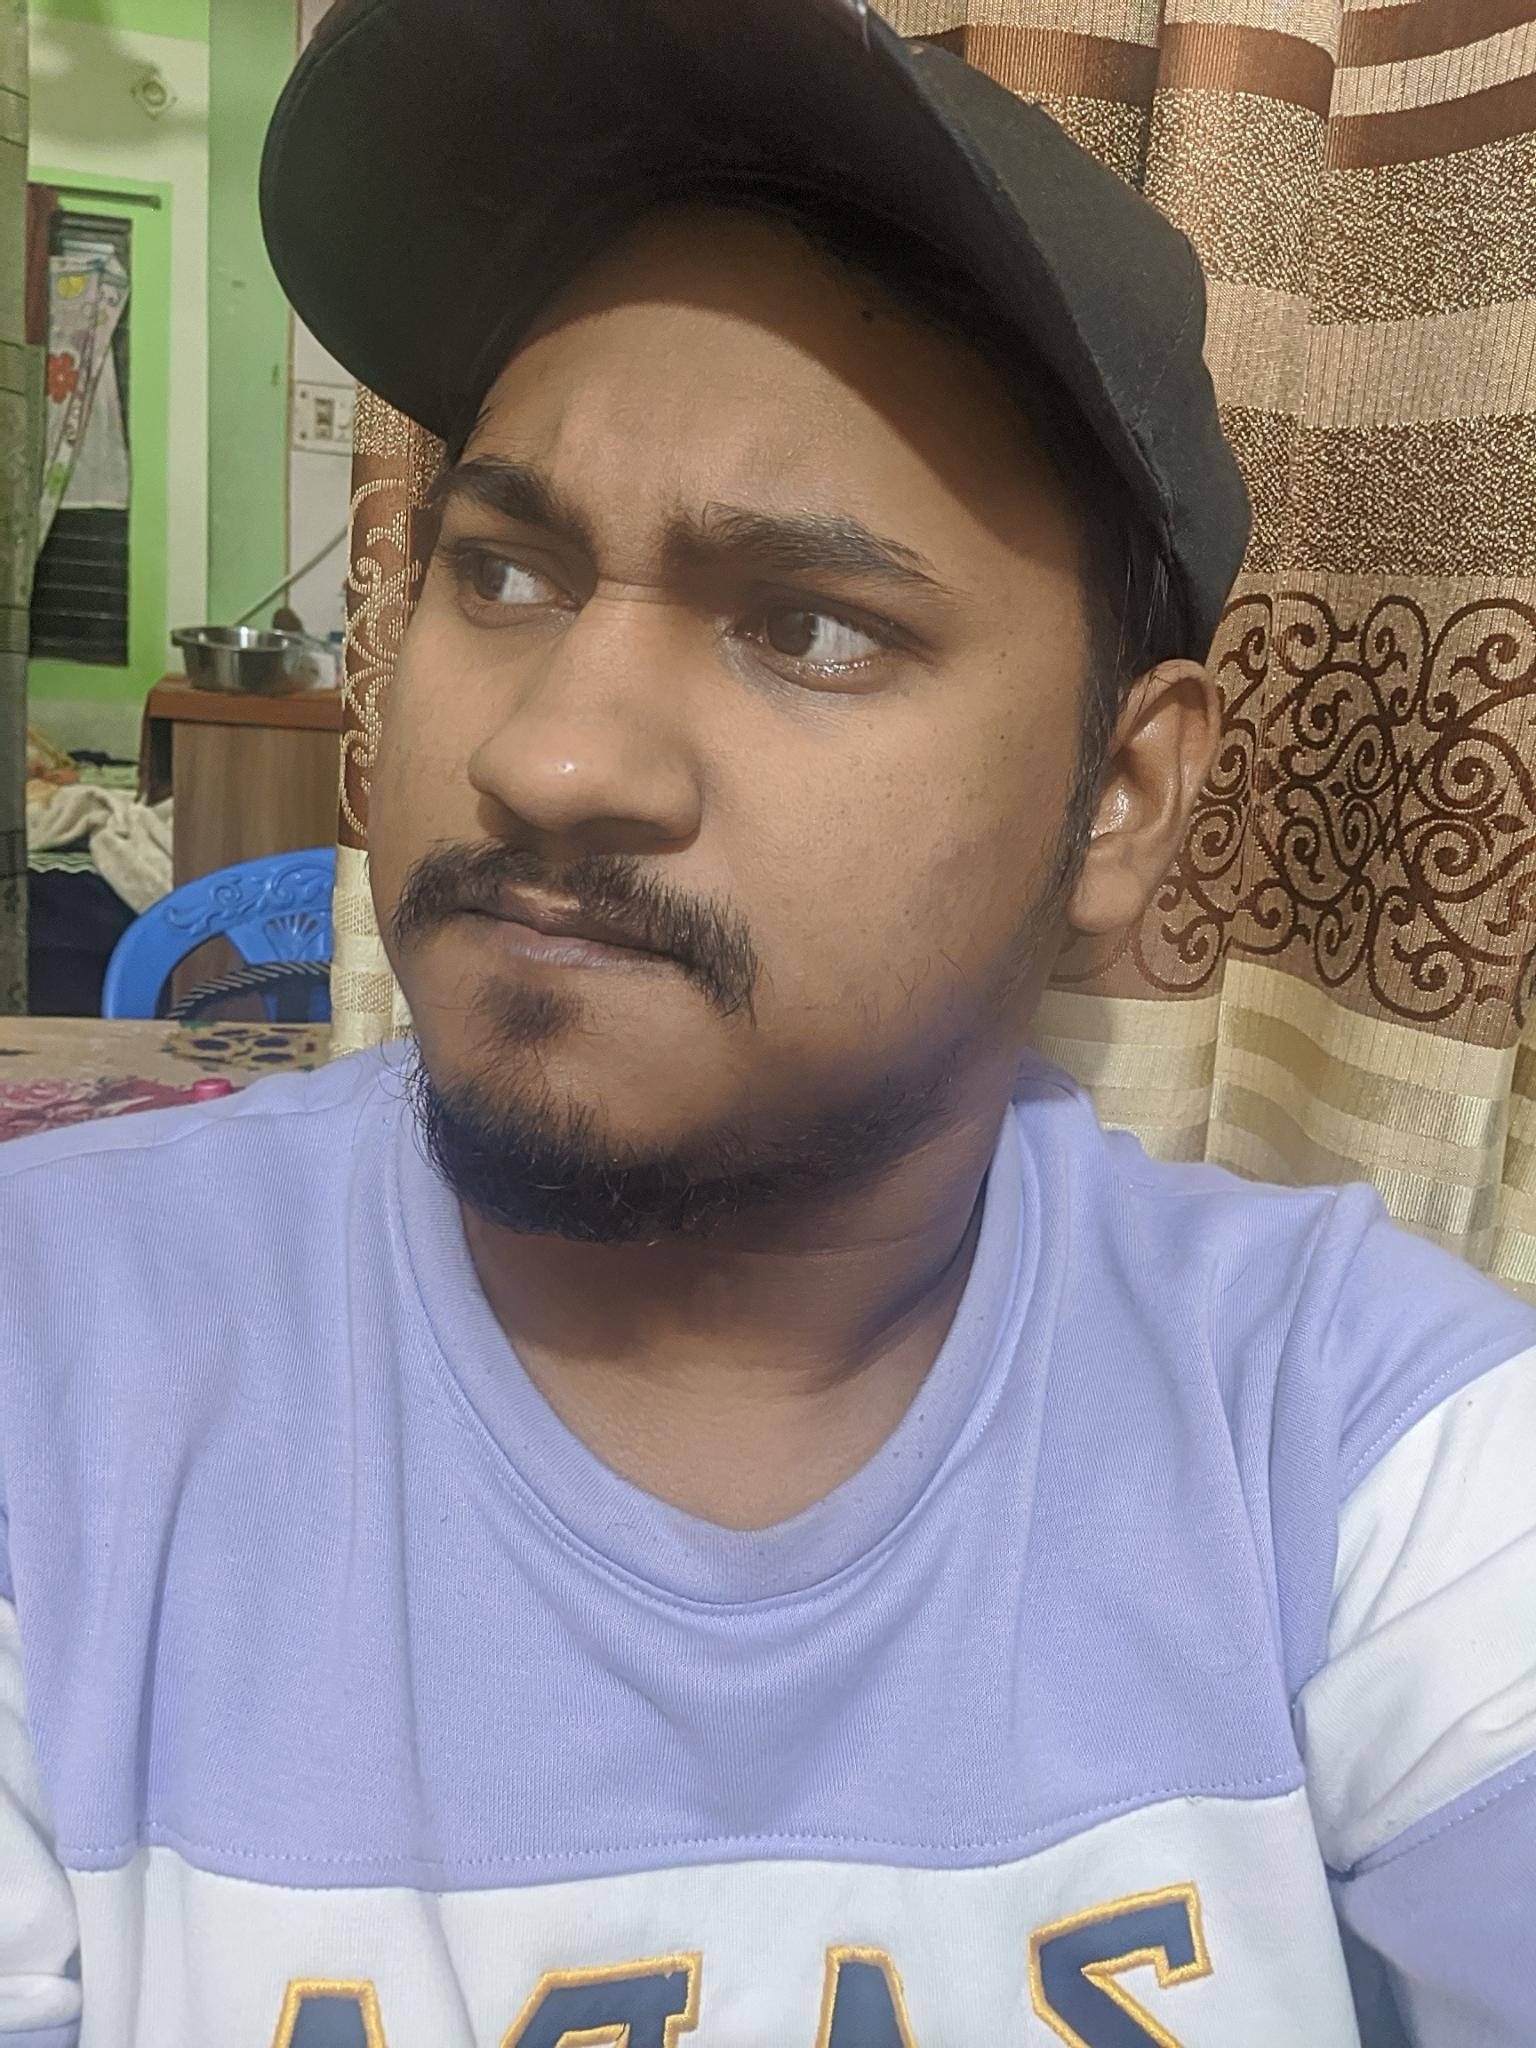Angry: (340, 311, 1055, 1193)
